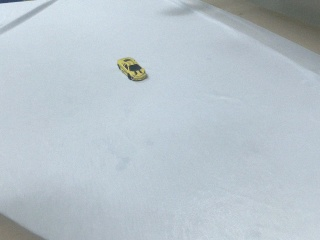toy_car: (117, 57, 148, 81)
